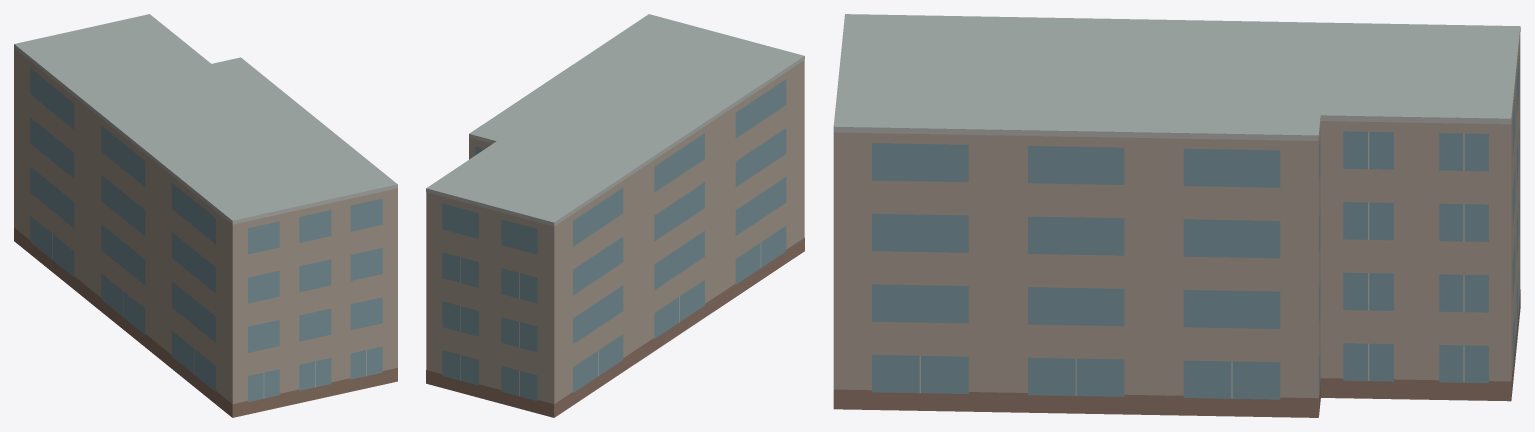
Rendered from residential-c0d271cc-6b20-4fe9-8c11-aa7215357269.glb.
3 views of the same model, side by side, from view 1: azimuth 30°, elevation 25°; view 2: azimuth 150°, elevation 25°; view 3: azimuth 270°, elevation 25° (orthographic). The views are drawn at different scales.
Parts seen in each view (by area): view 1: residential-c0d271cc-6b20-4fe9-8c11-aa7215357269.tmp; view 2: residential-c0d271cc-6b20-4fe9-8c11-aa7215357269.tmp; view 3: residential-c0d271cc-6b20-4fe9-8c11-aa7215357269.tmp.
Part boxes in pixels (box(x1,y1,x2,y2)): residential-c0d271cc-6b20-4fe9-8c11-aa7215357269.tmp: box(14, 14, 397, 417); residential-c0d271cc-6b20-4fe9-8c11-aa7215357269.tmp: box(426, 14, 804, 417); residential-c0d271cc-6b20-4fe9-8c11-aa7215357269.tmp: box(833, 14, 1520, 417).
Bounding box in the file's own units: 11.26 × 12.2 × 26.9.
